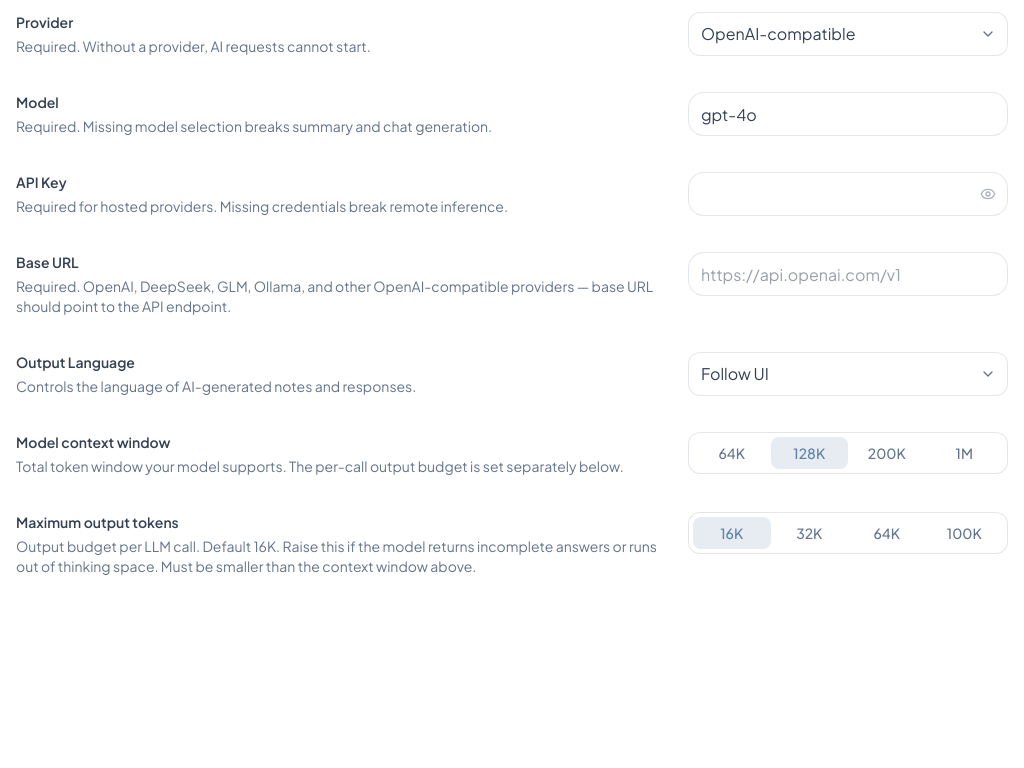
it: llm tab › updates base url hint and placeholder by provider
This screenshot has width=1024, height=768.
Expected: the text "Required. OpenAI, DeepSeek, GLM, Ollama, and other OpenAI-compatible providers" is shown, [16, 277, 653, 315]
Select "Anthropic-compatible" in the dropdown labelled "Provider": (848, 34) [688, 12, 1008, 56]
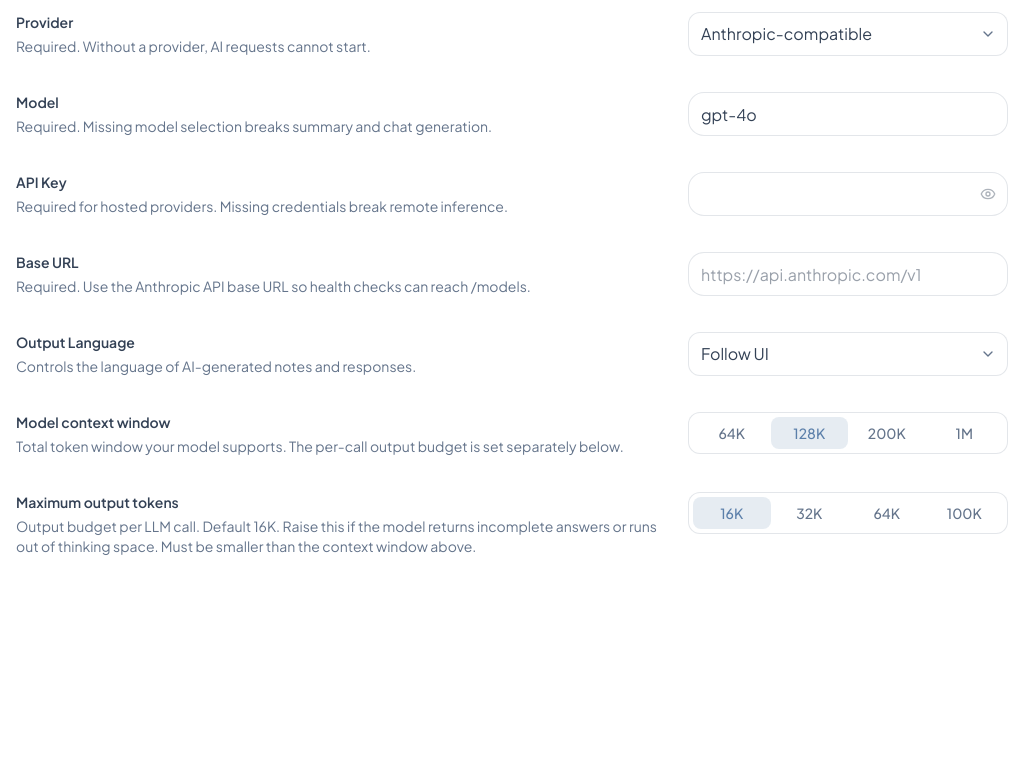
Expected: the text "Anthropic API base URL" is shown, [16, 277, 531, 295]
